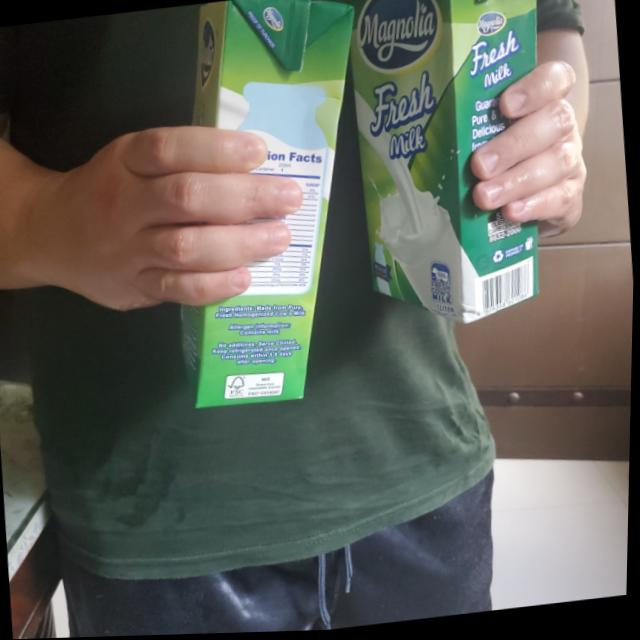milk: (158, 0, 385, 416), (337, 0, 571, 343)
